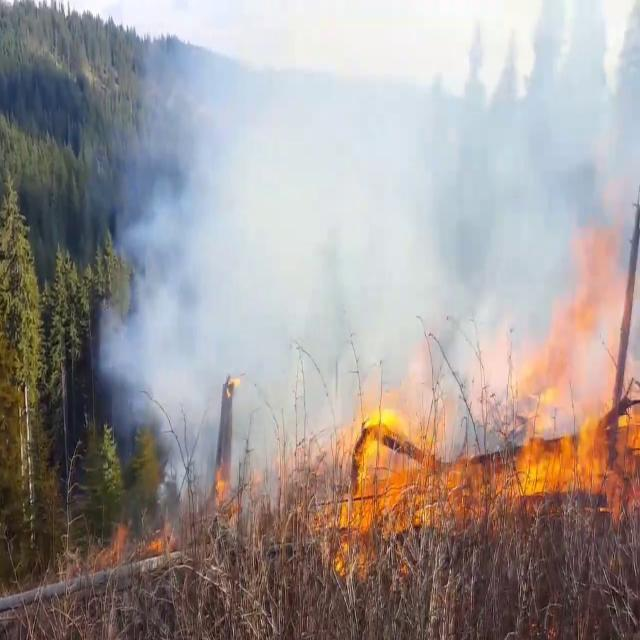Fire: (504, 290, 640, 514), (328, 378, 468, 578)
Smoke: (101, 0, 639, 498)
